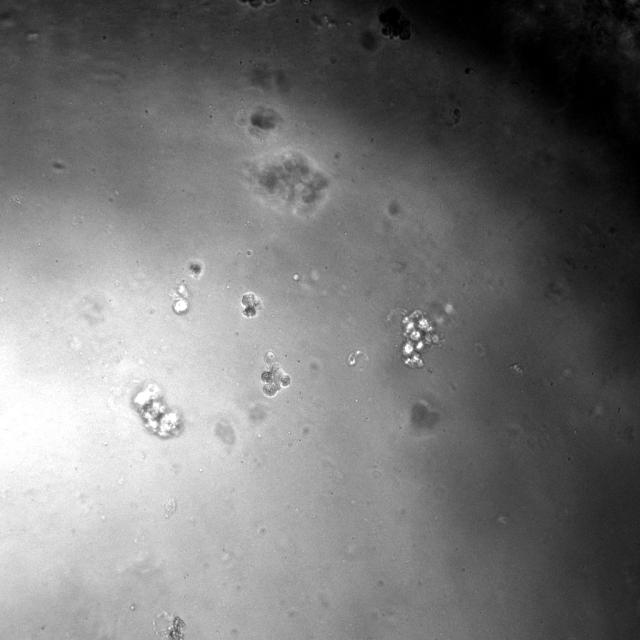organoid: (245, 152, 329, 213), (132, 384, 179, 437), (401, 309, 442, 368), (261, 352, 291, 397), (169, 283, 189, 314), (241, 292, 262, 318), (186, 260, 204, 279)
